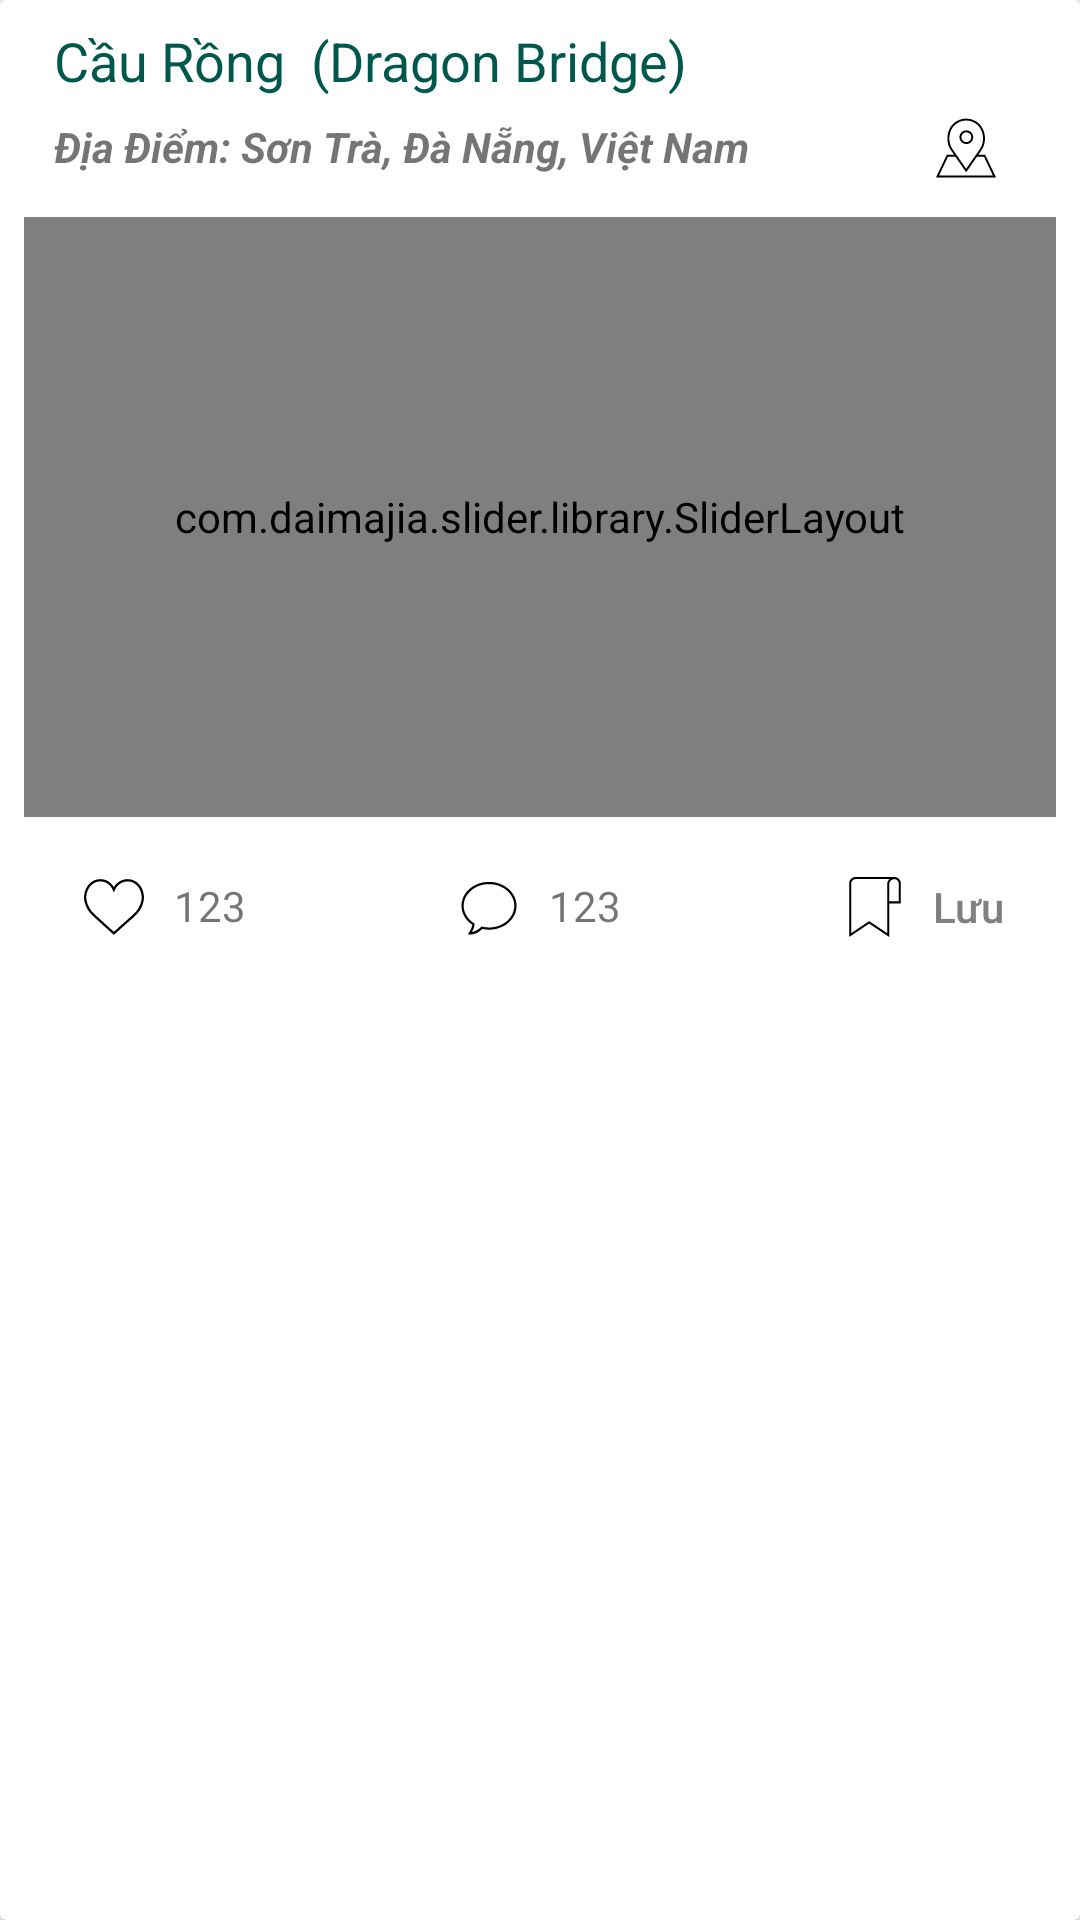

Where icons sit on this 1080×1920 app screen, as (x1, y1, x2, y2):
comments: (461, 882, 517, 935)
love: (84, 879, 144, 935)
